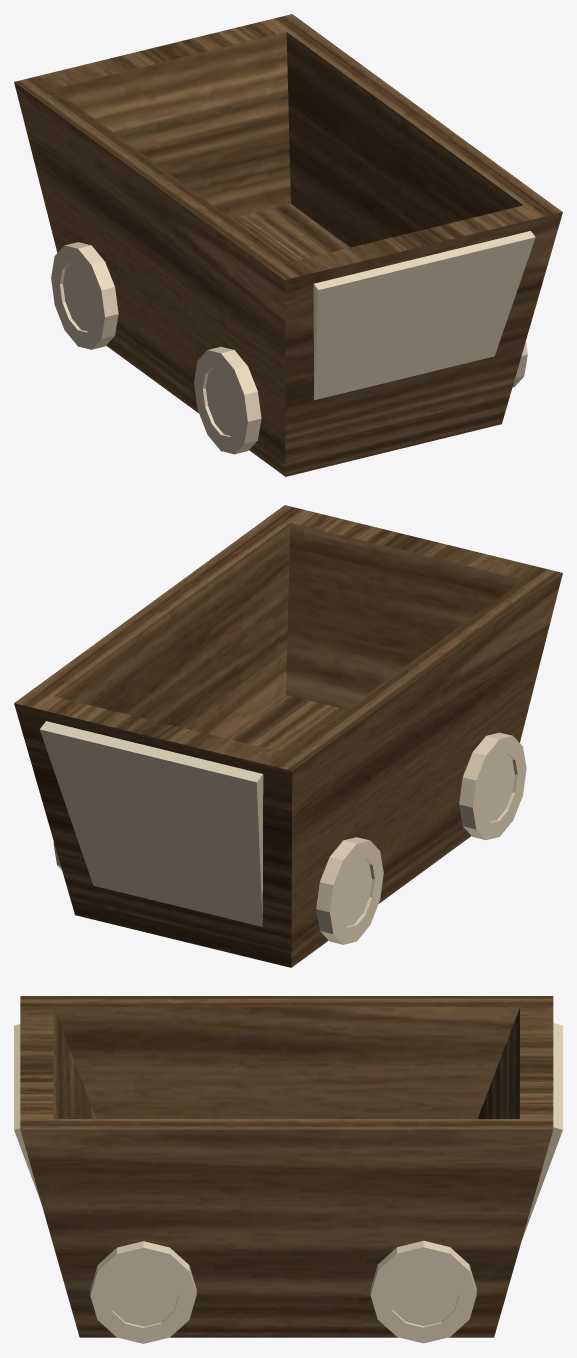
Rendered from Minecart.glb.
3 views of the same model, one above another, from view 1: azimuth 30°, elevation 25°; view 2: azimuth 150°, elevation 25°; view 3: azimuth 270°, elevation 25° (orthographic).
Parts seen in each view (by area): view 1: minecart; view 2: minecart; view 3: minecart.
Boxes of the visible parts, bbox=[...] form: minecart: bbox=[14, 14, 562, 476]; minecart: bbox=[14, 505, 562, 967]; minecart: bbox=[14, 996, 562, 1343].
Size of the model in its own units: 1.88 by 1.46 by 3.25.
2 materials, 1 textured.
